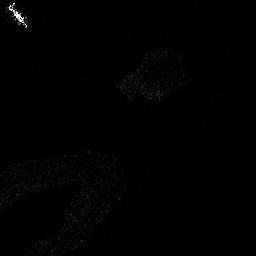ship: (7, 4, 28, 28)
